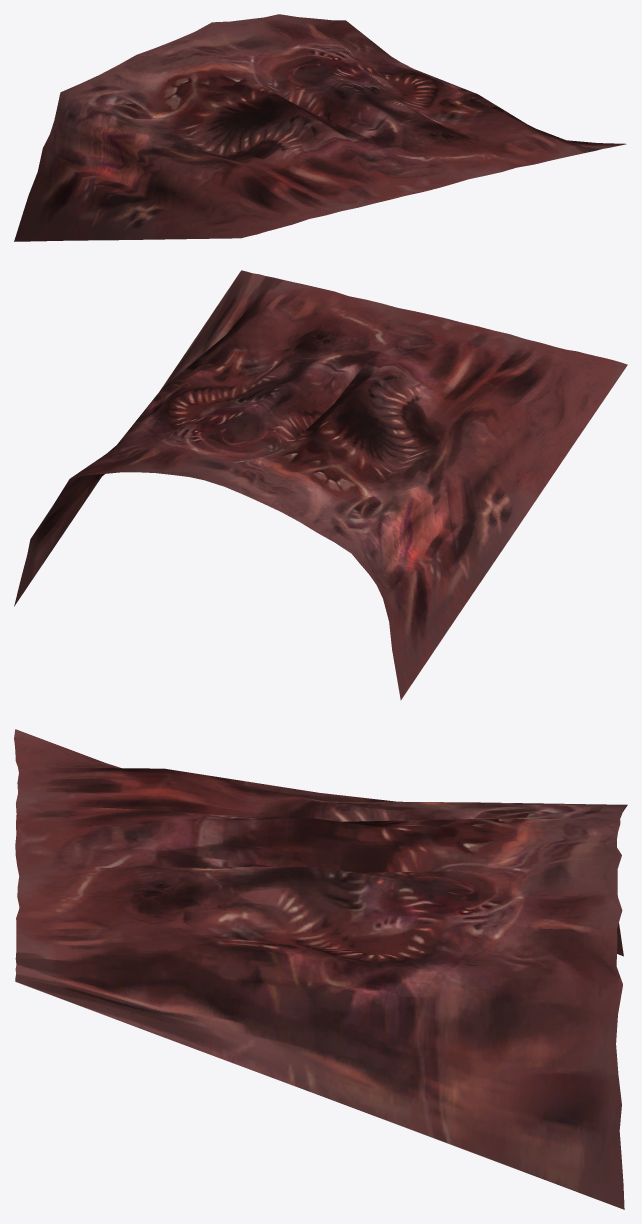
The model's file is ceilingblend.dae.
The picture shows the model from 3 angles, top to bottom: view 1: azimuth 30°, elevation 25°; view 2: azimuth 150°, elevation 25°; view 3: azimuth 270°, elevation 25°; orthographic projection. The views are drawn at different scales.
Visible parts, largest first — view 1: ZBrush_defualt_group; view 2: ZBrush_defualt_group; view 3: ZBrush_defualt_group.
Part boxes in pixels (bbox=[...]): ZBrush_defualt_group: bbox=[14, 14, 626, 241]; ZBrush_defualt_group: bbox=[14, 270, 627, 700]; ZBrush_defualt_group: bbox=[14, 729, 627, 1209].
Size of the model in its own units: 3.83 by 1.74 by 3.93.
